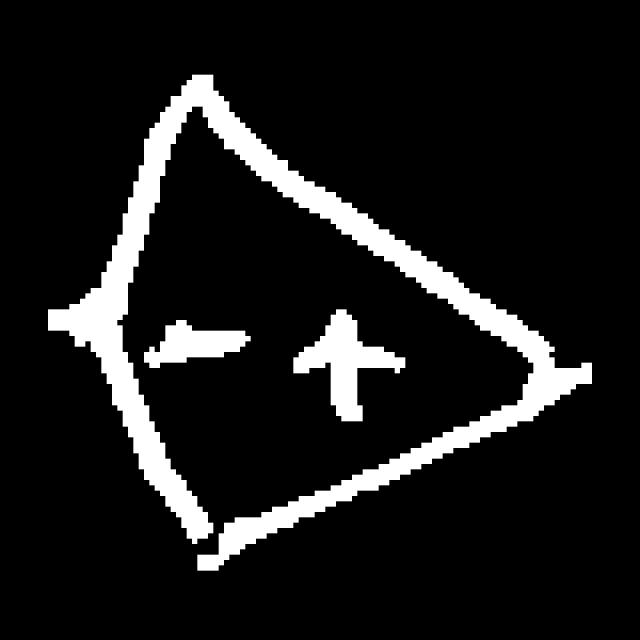dependant_voltage: (86, 75, 562, 556)
